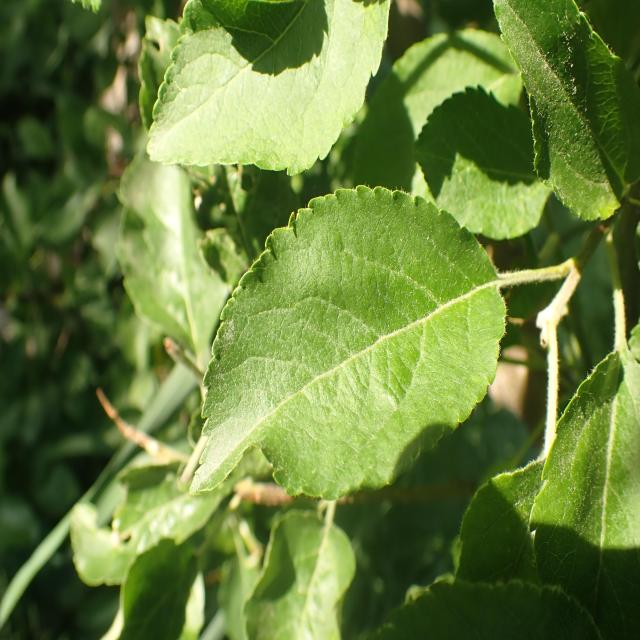healthy: (179, 184, 508, 502), (145, 0, 391, 175), (527, 328, 640, 640), (492, 0, 635, 222), (244, 508, 356, 639), (452, 458, 548, 584)
